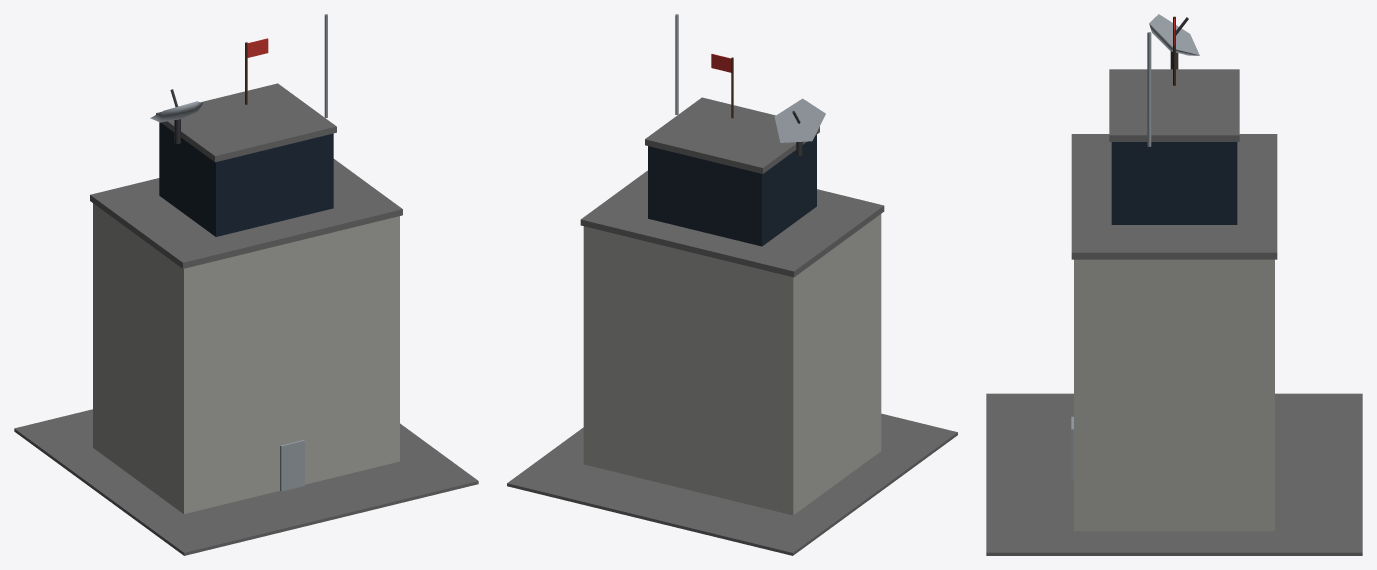
File: bld_special_command_center_a07_lod2.glb
3 renders of one model, left to right at view 1: azimuth 30°, elevation 25°; view 2: azimuth 150°, elevation 25°; view 3: azimuth 270°, elevation 25°, orthographic. The views are drawn at different scales.
Visible parts, largest first — view 1: body, antenna; view 2: body, antenna; view 3: body, antenna.
Boxes of the visible parts, x1=… form: body: x1=14, y1=14, x2=478, y2=555; antenna: x1=150, y1=89, x2=202, y2=143; body: x1=507, y1=14, x2=957, y2=555; antenna: x1=774, y1=98, x2=825, y2=156; body: x1=986, y1=16, x2=1362, y2=555; antenna: x1=1149, y1=14, x2=1199, y2=69.
Size of the model in its own units: 15 by 21.15 by 15.
